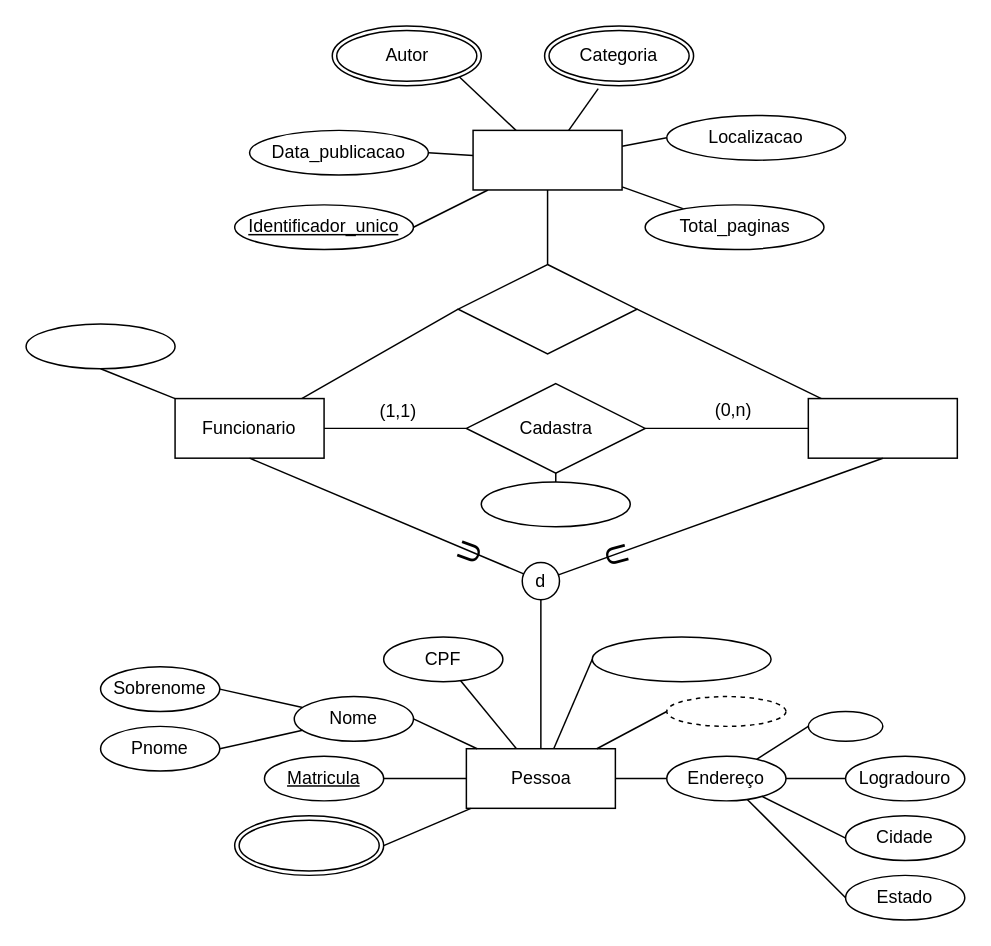
The diagram is 991 pixels wide and 946 high, and some of its shapes have lost their labels. Each missing label, with the box of its shape:
CEP: (807, 710, 883, 741)
Cliente: (807, 397, 957, 458)
Data_cadastro: (480, 481, 630, 527)
Data_nascimento: (591, 635, 771, 682)
Empresta: (457, 263, 637, 354)
Idade: (665, 695, 786, 726)
Material: (472, 129, 622, 190)
Telefone: (233, 814, 384, 875)
Tipo_emprego: (25, 323, 175, 369)
